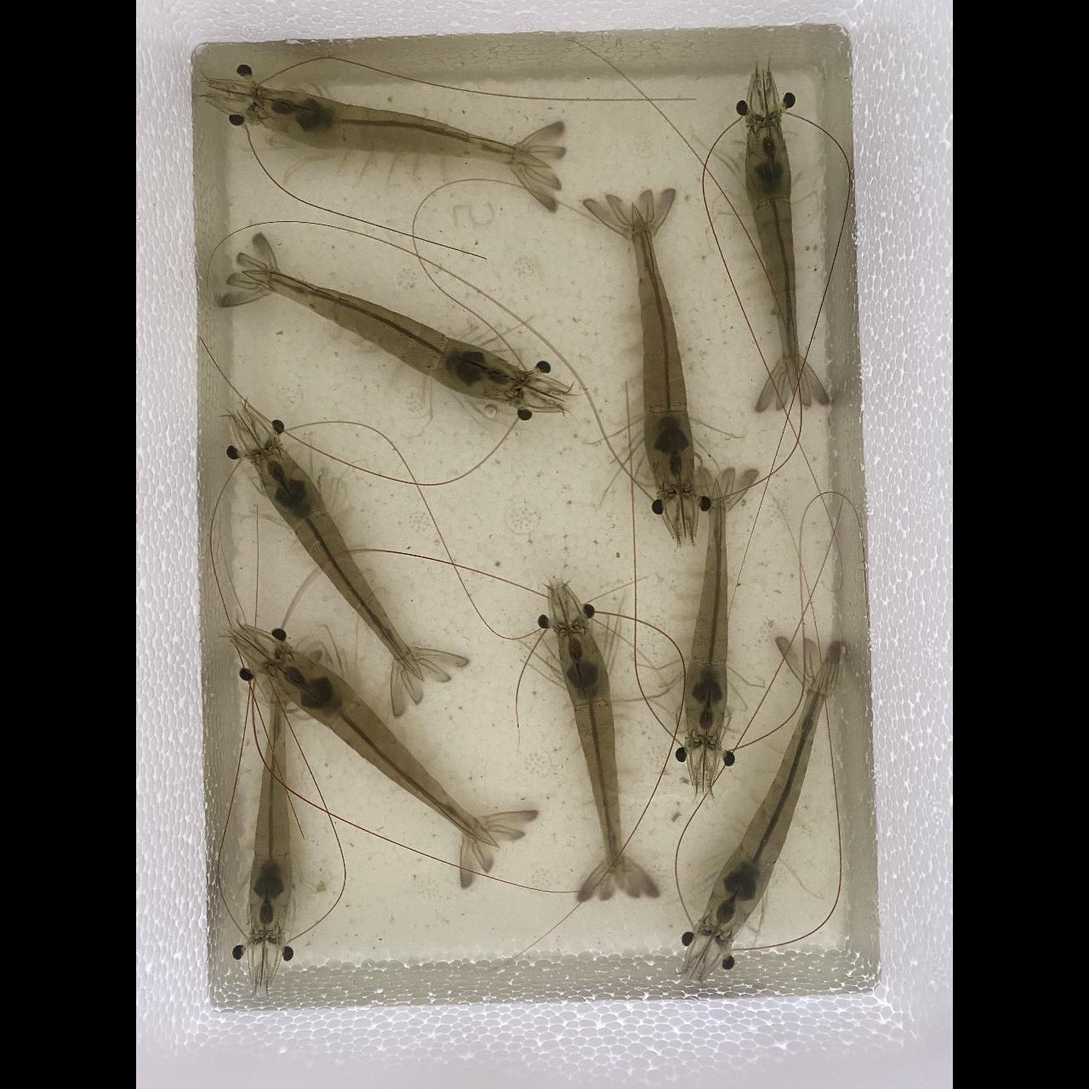top_shrimp: (274, 653, 488, 841), (255, 448, 420, 679), (248, 267, 522, 400), (703, 665, 827, 938), (252, 90, 543, 163), (633, 206, 693, 492), (562, 628, 623, 883), (745, 117, 798, 391), (686, 493, 727, 744), (250, 679, 289, 938)
